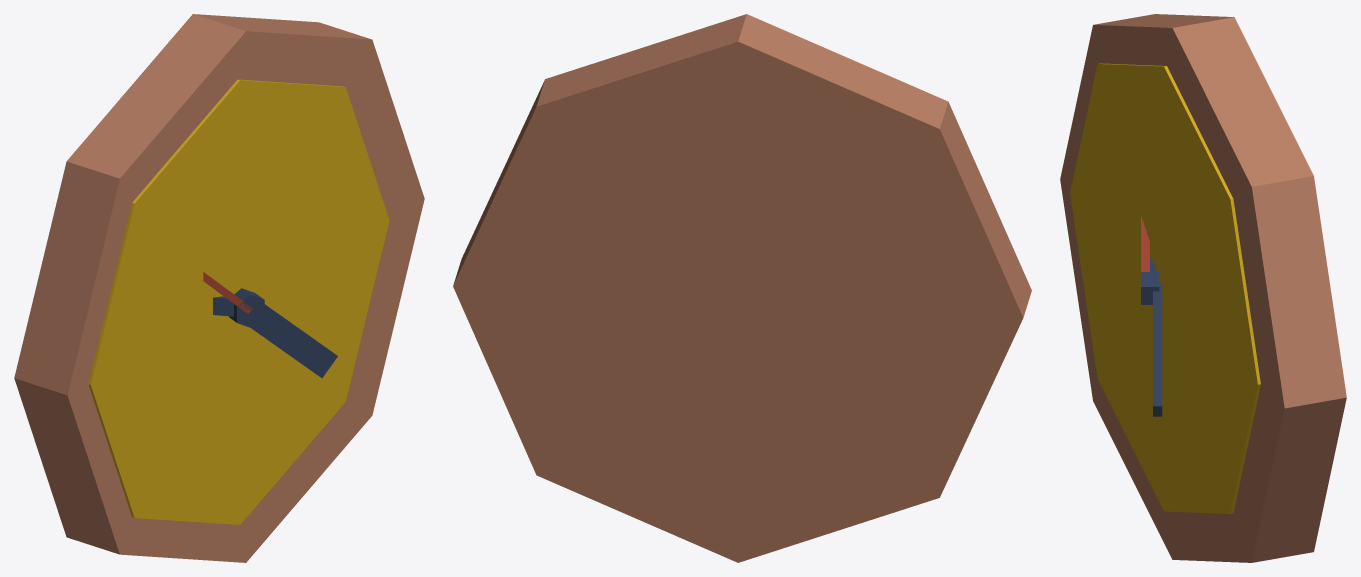
File: wall-clock-26.glb
3 views of the same model, side by side, from view 1: azimuth 30°, elevation 25°; view 2: azimuth 150°, elevation 25°; view 3: azimuth 270°, elevation 25° (orthographic). The views are drawn at different scales.
Visible parts, largest first — view 1: wall_clock_26; view 2: wall_clock_26; view 3: wall_clock_26.
Part boxes in pixels (bbox=[...]): wall_clock_26: bbox=[14, 14, 424, 562]; wall_clock_26: bbox=[453, 14, 1031, 562]; wall_clock_26: bbox=[1060, 14, 1346, 562].
Size of the model in its own units: 0.3716 by 0.384 by 0.1876.
